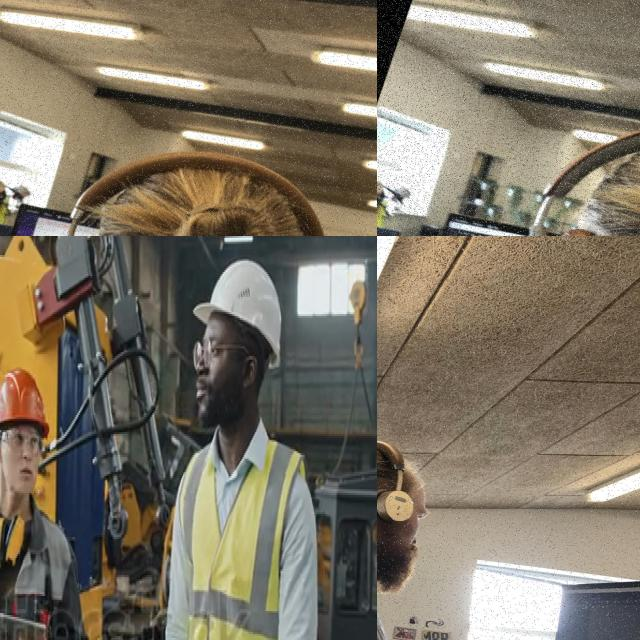Ear-protection: (30, 123, 377, 236), (466, 91, 640, 236), (377, 440, 430, 599), (0, 506, 33, 573)
glasses: (190, 333, 258, 371), (0, 422, 46, 453)
head_helmet: (192, 254, 284, 366), (0, 365, 49, 433)
person: (138, 239, 315, 640), (0, 364, 94, 640)
vest: (171, 414, 302, 640)
